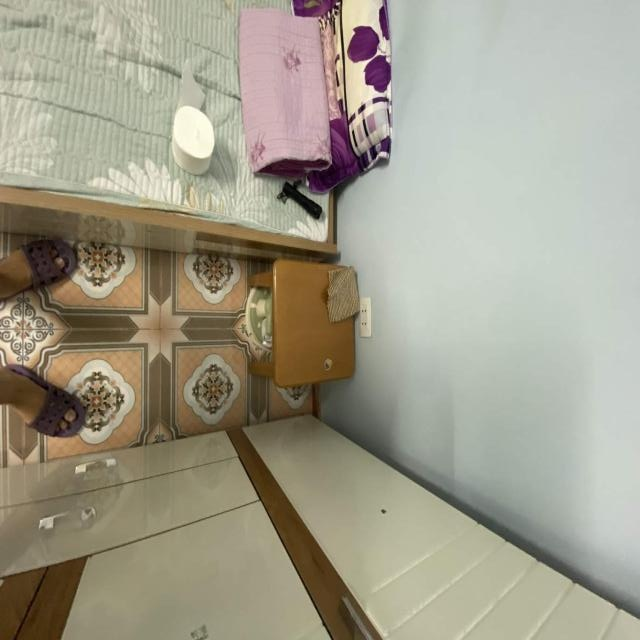outlet: (360, 296, 372, 337)
